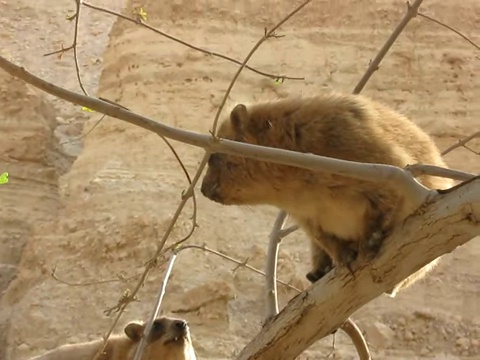Rock Hyrex: (200, 92, 459, 284), (29, 317, 195, 359)
